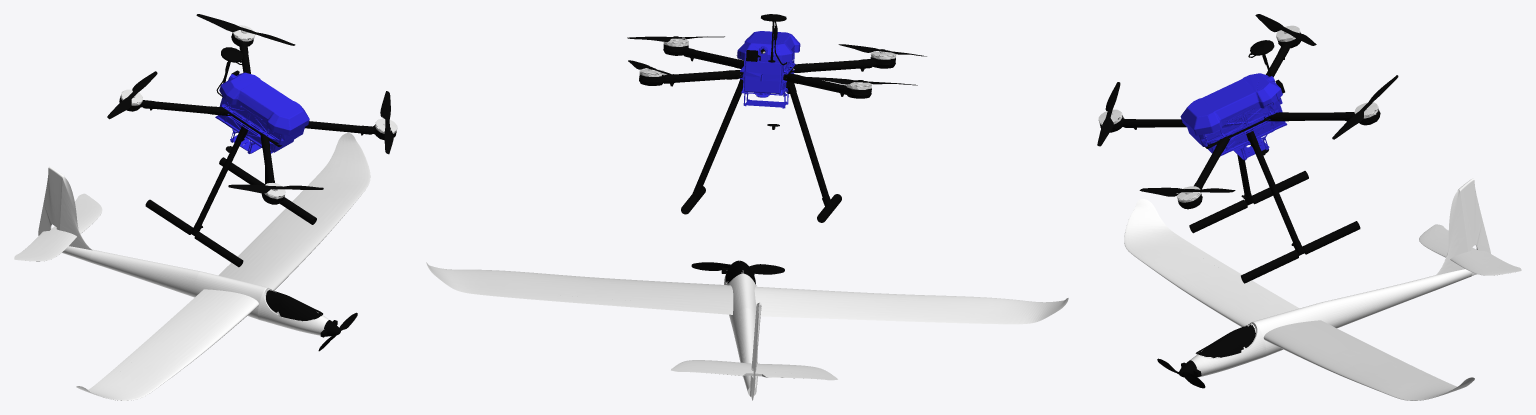
The model's file is capture-transformed.glb.
The picture shows the model from 3 angles, left to right: view 1: azimuth 30°, elevation 25°; view 2: azimuth 150°, elevation 25°; view 3: azimuth 270°, elevation 25°; orthographic projection. The views are drawn at different scales.
Parts seen in each view (by area): view 1: easyglider-body-one-piece.002, capture.004, capture, simplify_M690B_10pct_001, capture.003; view 2: easyglider-body-one-piece.002, capture.004, capture, simplify_M690B_10pct_001, capture.003; view 3: easyglider-body-one-piece.002, capture.004, capture, simplify_M690B_10pct_001, capture.003.
Part boxes in pixels (left/top/right/bottom): easyglider-body-one-piece.002: left=14, top=133, right=370, bottom=400; capture.004: left=119, top=32, right=396, bottom=267; capture: left=215, top=72, right=309, bottom=153; simplify_M690B_10pct_001: left=107, top=14, right=393, bottom=193; capture.003: left=120, top=25, right=397, bottom=199; easyglider-body-one-piece.002: left=426, top=260, right=1068, bottom=400; capture.004: left=639, top=14, right=895, bottom=222; capture: left=737, top=31, right=800, bottom=108; simplify_M690B_10pct_001: left=627, top=36, right=926, bottom=85; capture.003: left=639, top=38, right=896, bottom=89; easyglider-body-one-piece.002: left=1124, top=178, right=1521, bottom=400; capture.004: left=1100, top=32, right=1380, bottom=283; capture: left=1180, top=73, right=1287, bottom=160; simplify_M690B_10pct_001: left=1097, top=14, right=1398, bottom=196; capture.003: left=1098, top=25, right=1378, bottom=202.
Size of the model in its own units: 1.3 by 0.8113 by 1.04.
